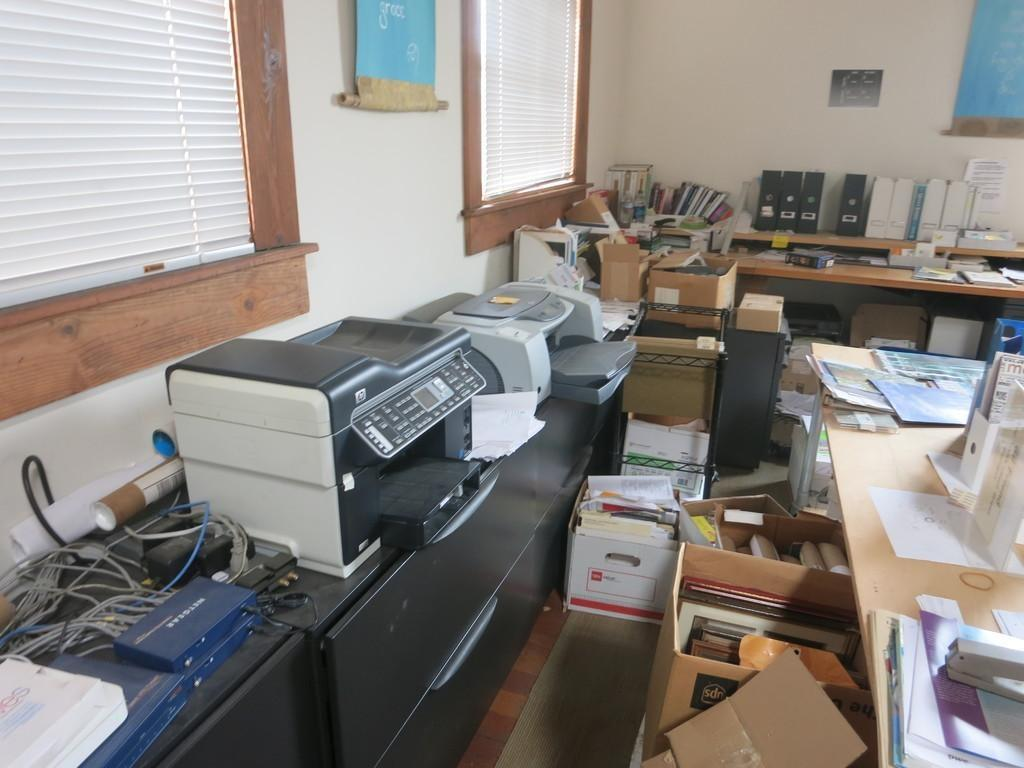Printer: (164, 314, 506, 579), (430, 280, 639, 406)
